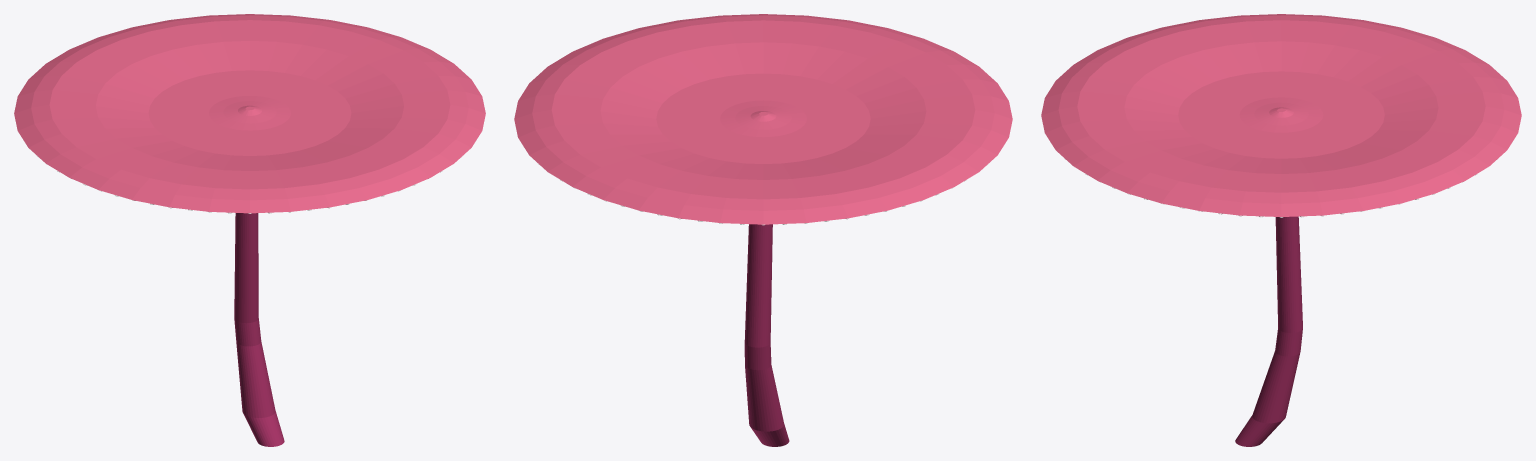
Rendered from MushroomBridge3.fbx.
The picture shows the model from 3 angles, left to right: view 1: azimuth 30°, elevation 25°; view 2: azimuth 150°, elevation 25°; view 3: azimuth 270°, elevation 25°; orthographic projection. The views are drawn at different scales.
Visible parts, largest first — view 1: dAU.001, THAN.001; view 2: dAU.001, THAN.001; view 3: dAU.001, THAN.001.
Part boxes in pixels (left/top/right/bottom): dAU.001: left=14, top=14, right=485, bottom=213; THAN.001: left=234, top=213, right=284, bottom=446; dAU.001: left=514, top=14, right=1012, bottom=224; THAN.001: left=744, top=224, right=789, bottom=446; dAU.001: left=1041, top=14, right=1521, bottom=216; THAN.001: left=1235, top=216, right=1302, bottom=446.
Bounding box in the file's own units: 19.2 × 14.64 × 19.2.
